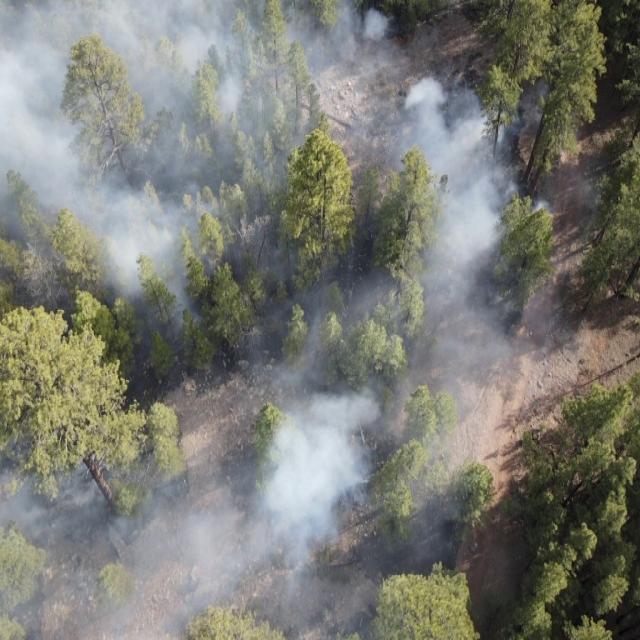smoke: (0, 0, 399, 295), (0, 442, 331, 640), (399, 31, 568, 381), (277, 294, 492, 514), (244, 379, 384, 556), (324, 514, 453, 640)
